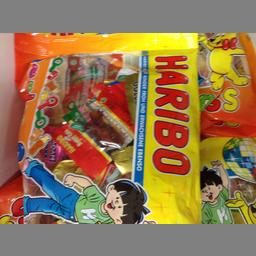candy: (14, 34, 200, 222)
